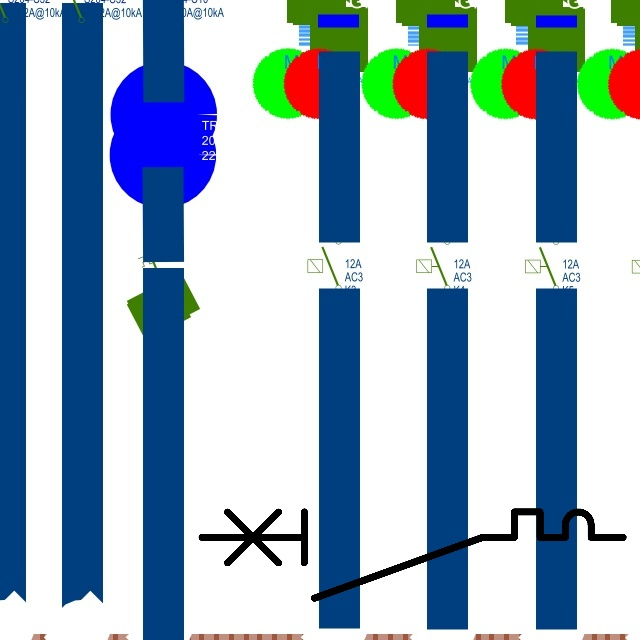interruptor_termomagnetico: (191, 501, 634, 609)
